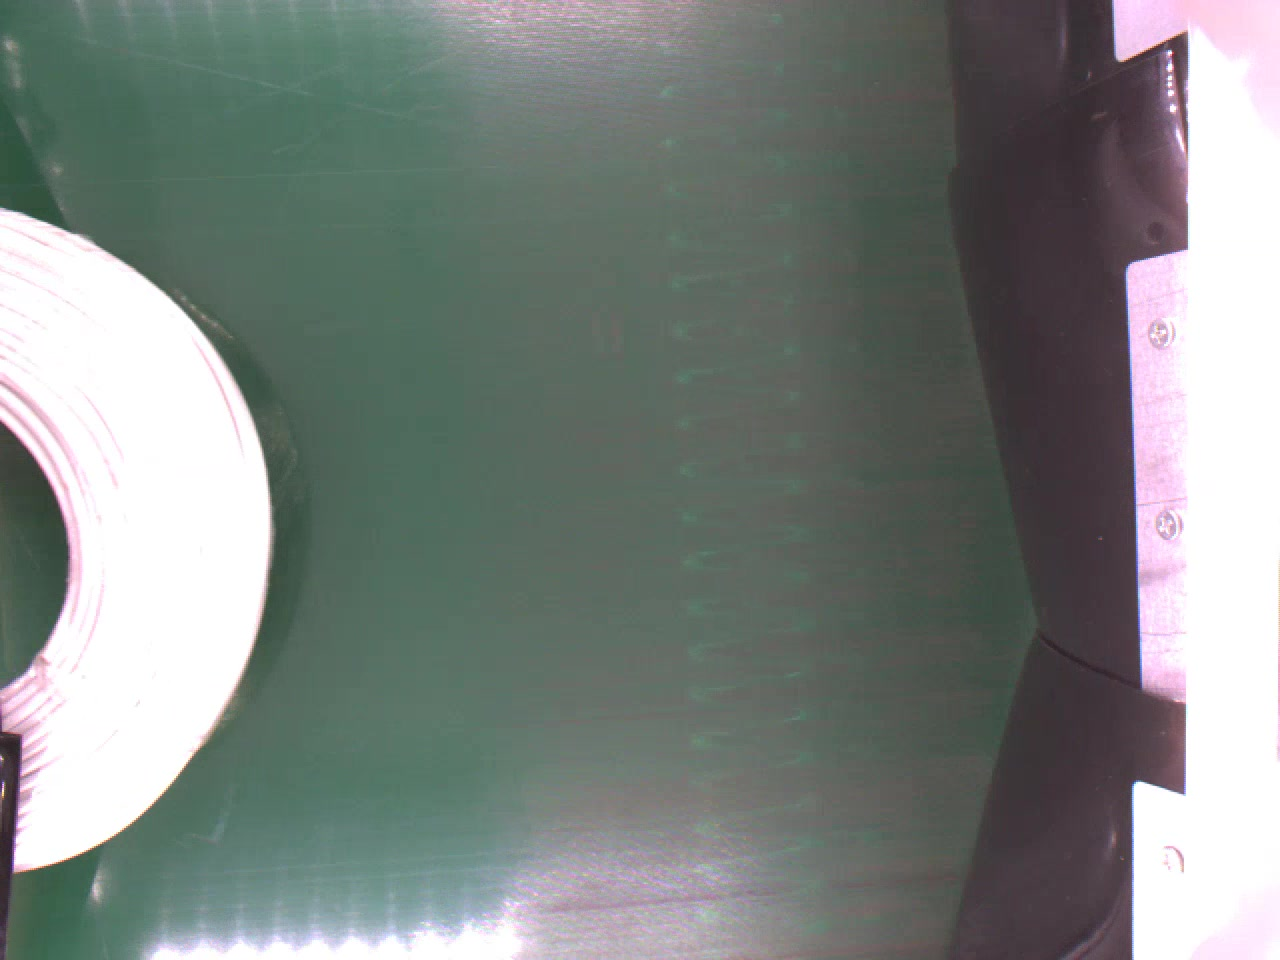white: (0, 201, 274, 869)
